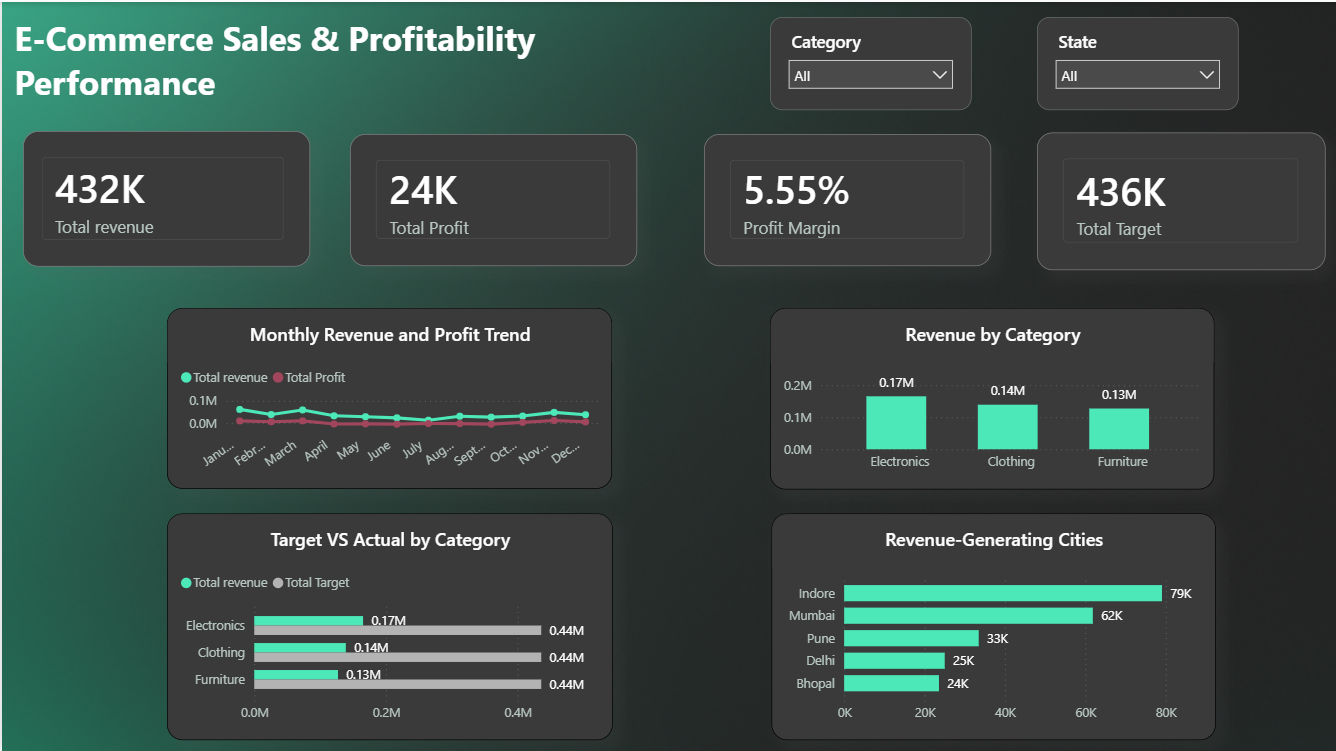

The dashboard page shown, as its layout file describes it:
{"tool":"powerbi","page":{"name":"Page 1","canvas":[1280,720],"ordinal":0},"visuals":[{"type":"shape","box":[20,128.3,1248.3,125],"z":500},{"type":"shape","box":[138.7,489.2,465,222],"z":625},{"type":"shape","box":[0,0,1280,80],"z":687},{"type":"cardVisual","fields":{"Data":["ORDER_DETAILS.Total Profit"]},"box":[333.3,126.7,275,126.7],"z":750},{"type":"cardVisual","fields":{"Data":["ORDER_DETAILS.Profit Margin"]},"box":[673.3,126.7,275,126.7],"z":1000},{"type":"cardVisual","fields":{"Data":["ORDER_DETAILS.Total revenue"]},"box":[20,123.3,275,130],"z":2000},{"type":"shape","box":[715,491.2,470,220],"z":2500},{"type":"shape","box":[138,270,470,220],"z":3000},{"type":"lineChart","title":"Monthly Revenue and Profit Trend","fields":{"Category":["ORDERS.Order Date.Variation.Date Hierarchy.Month"],"Y":["ORDER_DETAILS.Total revenue","ORDER_DETAILS.Total Profit"]},"box":[158.3,293.3,426.7,173.3],"z":4000},{"type":"shape","box":[715,270,470,220],"z":4500},{"type":"clusteredColumnChart","title":"Revenue by Category","fields":{"Category":["ORDER_DETAILS.Category"],"Y":["ORDER_DETAILS.Total revenue"]},"box":[736.2,293.8,426.2,173.8],"z":5000},{"type":"clusteredBarChart","title":"Target VS Actual by Category","fields":{"Category":["ORDER_DETAILS.Category"],"Y":["ORDER_DETAILS.Total revenue","SALES_TARGET.Total Target"]},"box":[160,504,426.2,190],"z":6000},{"type":"slicer","fields":{"Values":["ORDERS.State"]},"box":[992,14,193,89],"z":7000},{"type":"slicer","fields":{"Values":["ORDER_DETAILS.Category"]},"box":[736,14,193,89],"z":8000},{"type":"textbox","box":[0,0,702,104],"z":9000},{"type":"cardVisual","fields":{"Data":["SALES_TARGET.Total Target"]},"box":[991.7,125,276.7,131.7],"z":10000},{"type":"clusteredBarChart","title":"Top Cities by Revenue","fields":{"Category":["ORDERS.City"],"Y":["ORDER_DETAILS.Total revenue"]},"box":[736,504,426,190],"z":11000}]}

Visuals, with their boxes in screenshot pixels (x1, y1, x2, y2), scaled from the page's 1280x720 canvas onto the 1336x751 screenshot:
shape: BBox(21, 134, 1324, 264)
shape: BBox(145, 510, 630, 742)
shape: BBox(0, 0, 1335, 83)
cardVisual - ORDER_DETAILS.Total Profit: BBox(348, 132, 635, 264)
cardVisual - ORDER_DETAILS.Profit Margin: BBox(703, 132, 990, 264)
cardVisual - ORDER_DETAILS.Total revenue: BBox(21, 129, 308, 264)
shape: BBox(746, 512, 1237, 742)
shape: BBox(144, 282, 635, 511)
"Monthly Revenue and Profit Trend" lineChart: BBox(165, 306, 611, 487)
shape: BBox(746, 282, 1237, 511)
"Revenue by Category" clusteredColumnChart: BBox(768, 306, 1213, 488)
"Target VS Actual by Category" clusteredBarChart: BBox(167, 526, 612, 724)
slicer - ORDERS.State: BBox(1035, 15, 1237, 107)
slicer - ORDER_DETAILS.Category: BBox(768, 15, 970, 107)
textbox: BBox(0, 0, 733, 108)
cardVisual - SALES_TARGET.Total Target: BBox(1035, 130, 1324, 268)
"Top Cities by Revenue" clusteredBarChart: BBox(768, 526, 1213, 724)
